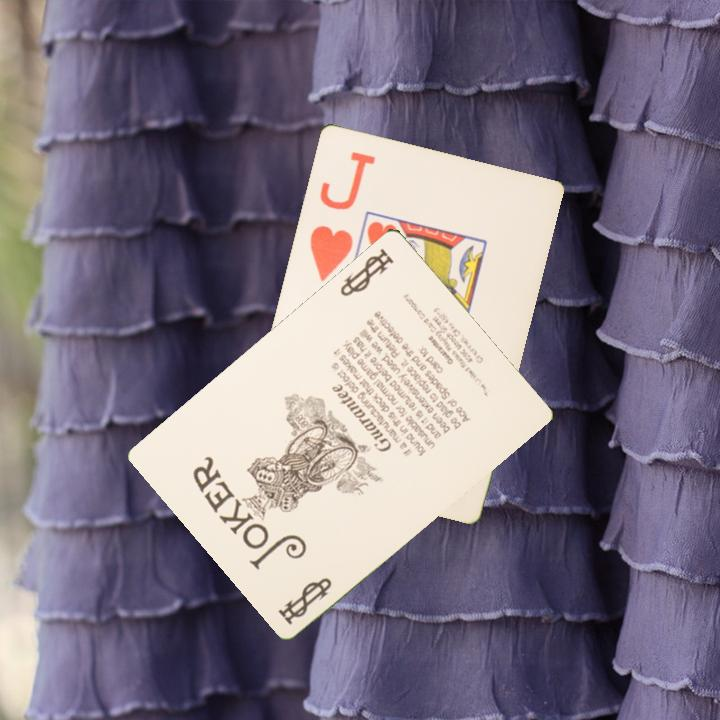JK: (336, 244, 397, 299), (275, 573, 335, 628)
Jh: (305, 147, 377, 284)
